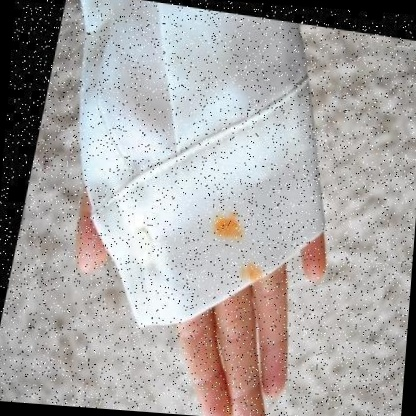kimchi: (215, 212, 242, 239), (243, 255, 268, 277)
